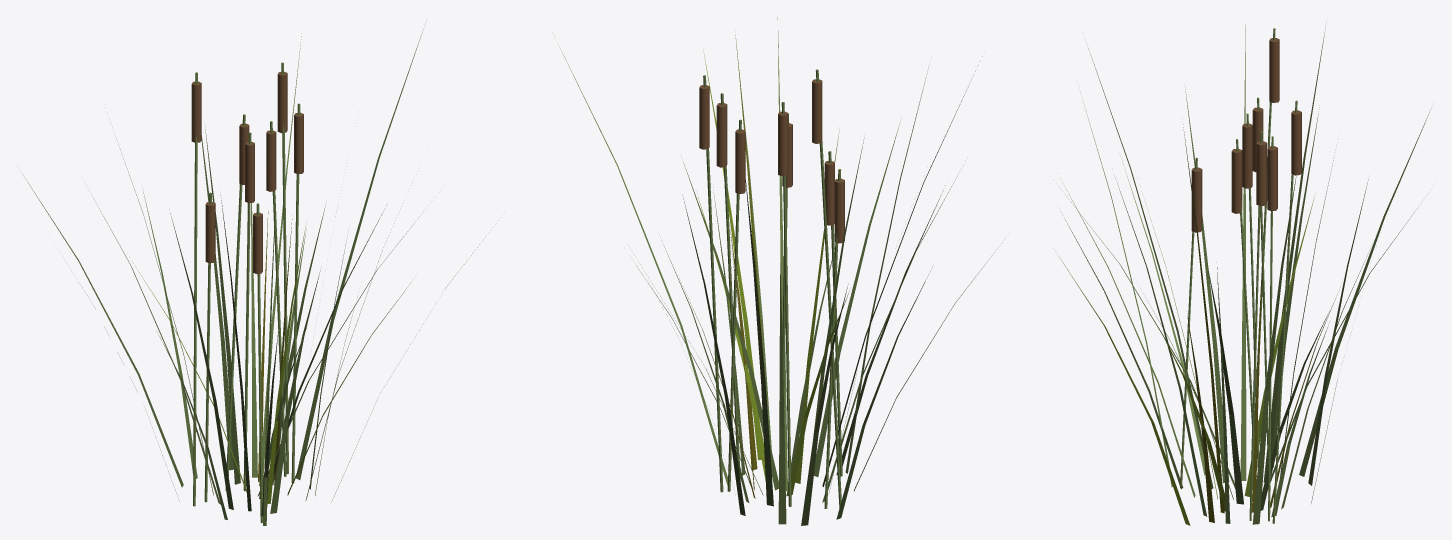
Rendered from reeds_2.glb.
3 renders of one model, left to right at view 1: azimuth 30°, elevation 25°; view 2: azimuth 150°, elevation 25°; view 3: azimuth 270°, elevation 25°, orthographic. The views are drawn at different scales.
Parts seen in each view (by area): view 1: reeds_2; view 2: reeds_2; view 3: reeds_2.
Boxes of the visible parts, x1,y1,x2,y2 form: reeds_2: (22,24,479,525); reeds_2: (558,17,1004,525); reeds_2: (1059,25,1431,525).
Size of the model in its own units: 1.85 by 1.99 by 1.58.
